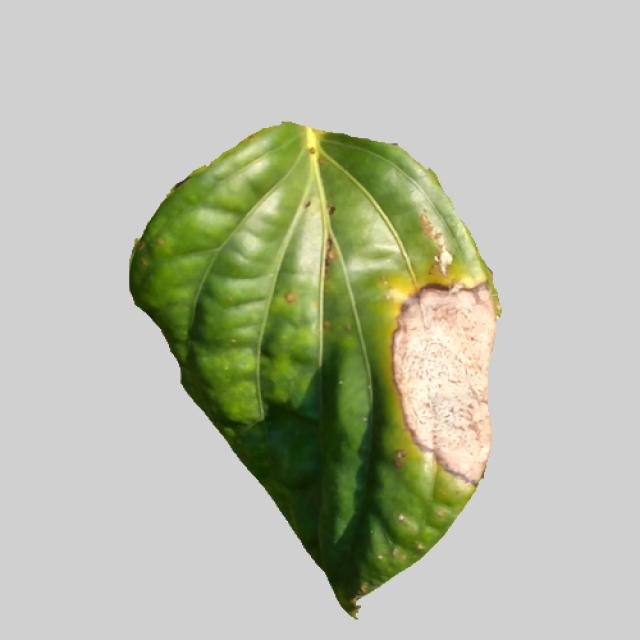leaf-blight: (107, 135, 507, 628)
